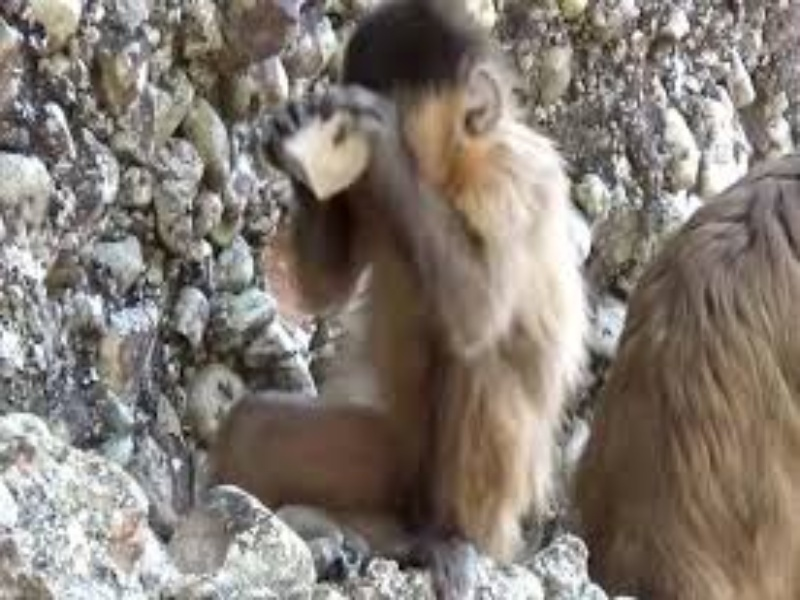monkey: (194, 8, 581, 587)
